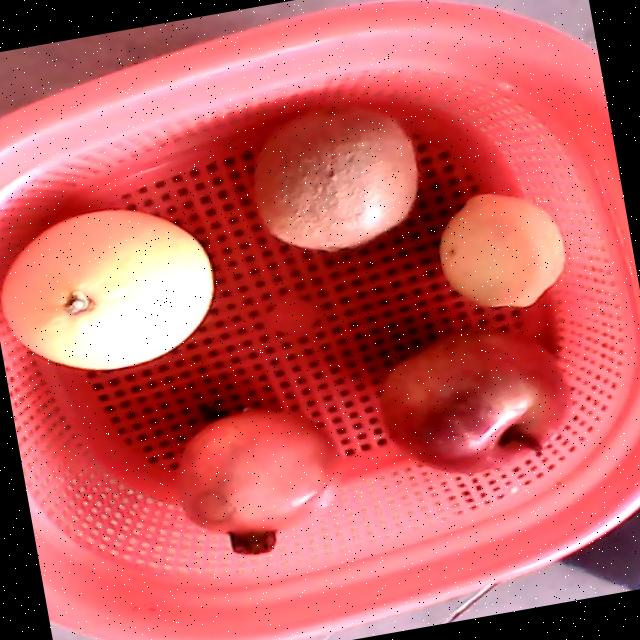apple: (379, 327, 571, 475)
kiwi: (252, 103, 416, 251)
lemon: (440, 192, 565, 309)
orange: (0, 207, 214, 369)
pomegranate: (173, 406, 341, 555)
